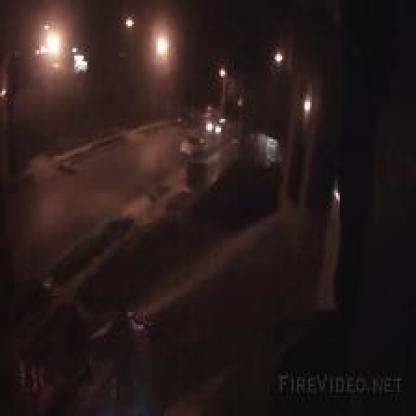other: (29, 21, 100, 87), (144, 25, 170, 54), (196, 113, 224, 137), (264, 46, 286, 70)
